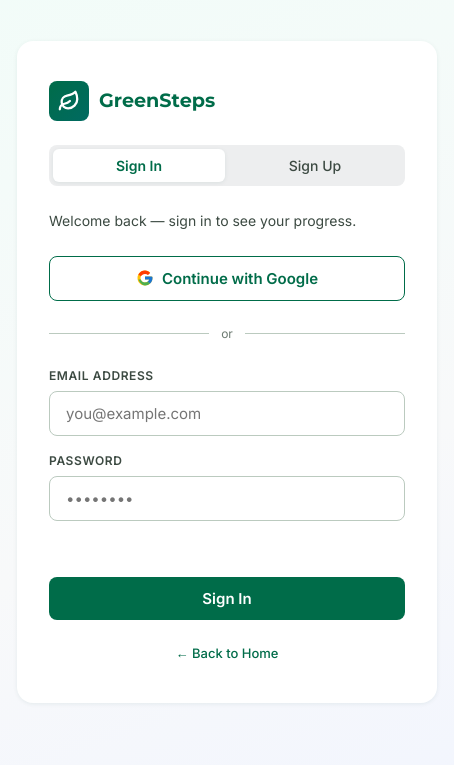
Scenario: Login page › shows name field after switching to sign-up tab
What coordinates should you click on to do the following:
click the tab "Sign Up"
I would click on:
 (315, 165)
Its box is top-left (229, 148), bottom-right (401, 182).
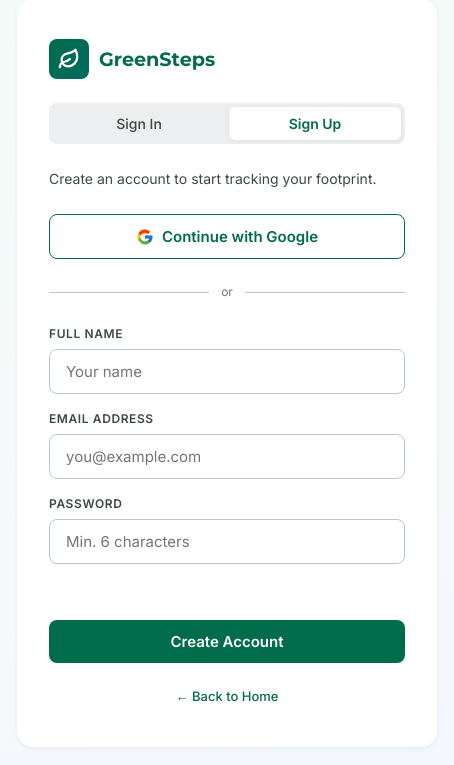
Expected: the field labelled "Full Name" is shown, top-left (49, 349), bottom-right (405, 394)
